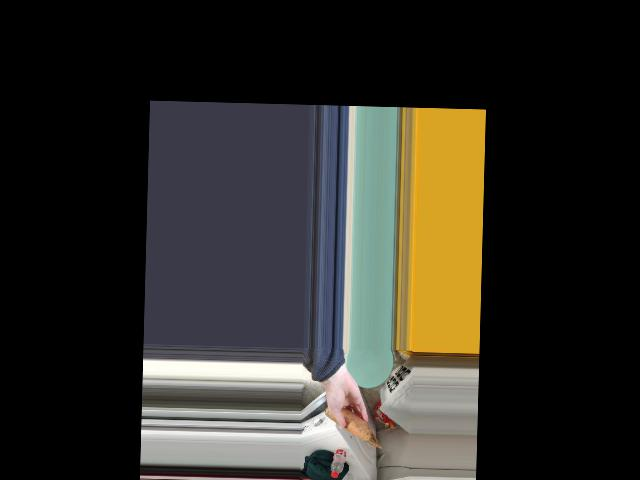sweet_potato: (326, 401, 363, 433)
